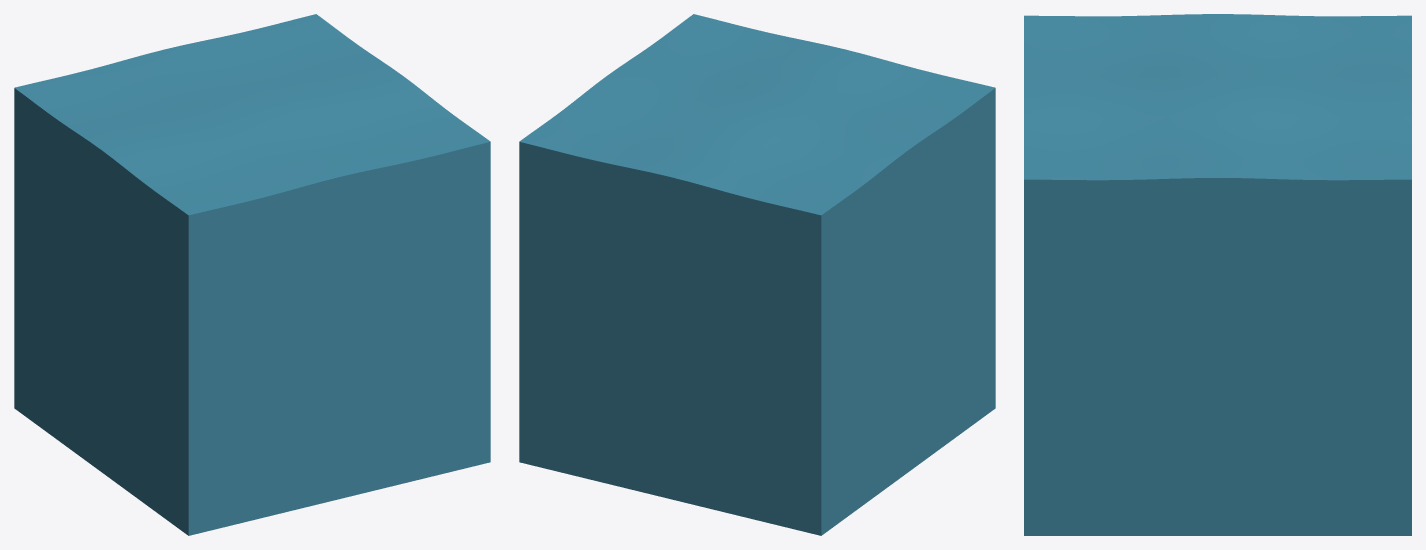
The model's file is slpool_wave10.glb.
The picture shows the model from 3 angles, left to right: view 1: azimuth 30°, elevation 25°; view 2: azimuth 150°, elevation 25°; view 3: azimuth 270°, elevation 25°; orthographic projection. The views are drawn at different scales.
Visible parts, largest first — view 1: poolWater; view 2: poolWater; view 3: poolWater.
Part boxes in pixels (x1=…): poolWater: x1=14, y1=14, x2=490, y2=535; poolWater: x1=519, y1=14, x2=995, y2=535; poolWater: x1=1024, y1=14, x2=1411, y2=535.
Bounding box in the file's own units: 2 × 2.05 × 2.
